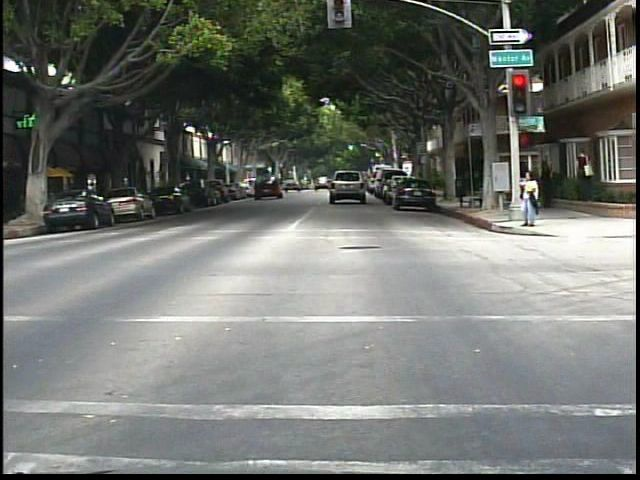person: (516, 168, 543, 229), (572, 147, 599, 206), (540, 159, 562, 217)
